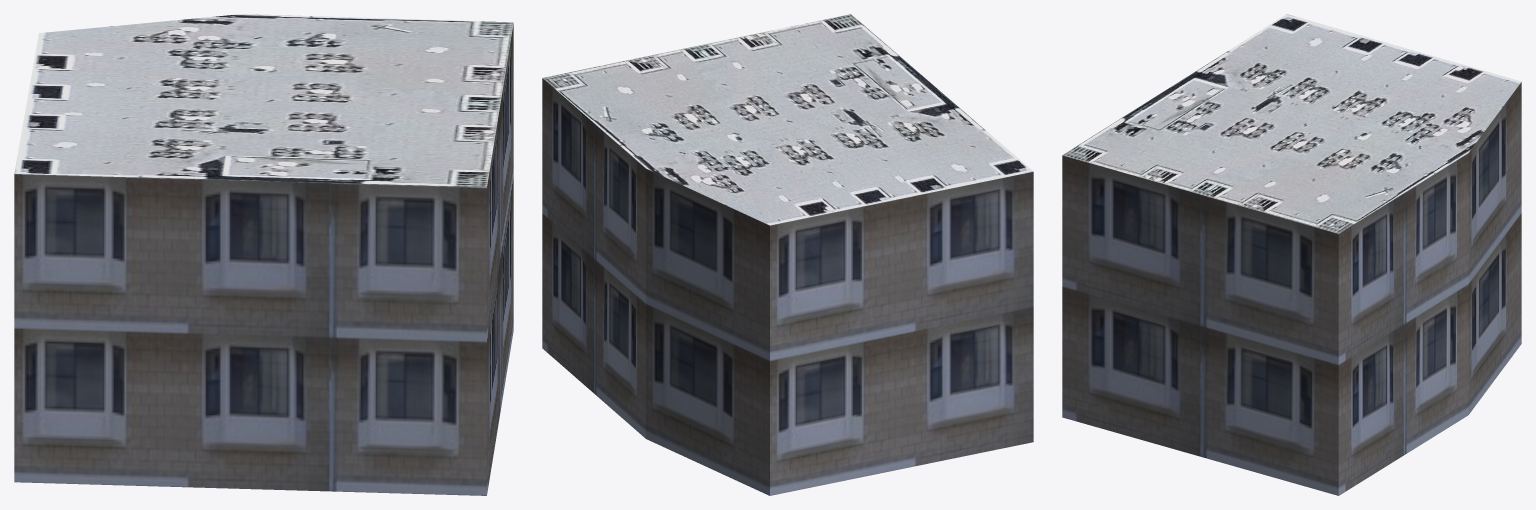
Rendered from ResTex__3900.fbx.
3 views of the same model, side by side, from view 1: azimuth 30°, elevation 25°; view 2: azimuth 150°, elevation 25°; view 3: azimuth 270°, elevation 25° (orthographic). The views are drawn at different scales.
Visible parts, largest first — view 1: CityEngineMaterial_3_m, CityEngineMaterial_4_m; view 2: CityEngineMaterial_3_m, CityEngineMaterial_4_m; view 3: CityEngineMaterial_3_m, CityEngineMaterial_4_m.
Boxes of the visible parts, x1=… form: CityEngineMaterial_3_m: x1=14, y1=23, x2=513, y2=495; CityEngineMaterial_4_m: x1=14, y1=14, x2=513, y2=187; CityEngineMaterial_3_m: x1=542, y1=78, x2=1033, y2=495; CityEngineMaterial_4_m: x1=543, y1=14, x2=1032, y2=225; CityEngineMaterial_3_m: x1=1062, y1=82, x2=1521, y2=495; CityEngineMaterial_4_m: x1=1062, y1=14, x2=1521, y2=233.
Bounding box in the file's own units: 10.79 × 6 × 9.53.
Materials: 2 (2 with a texture image).
